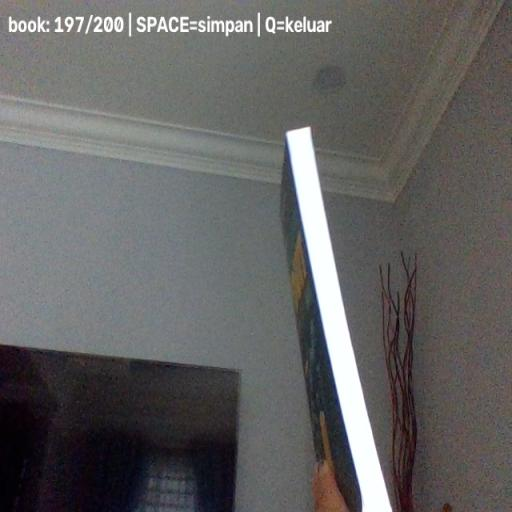Book: (280, 127, 394, 512)
